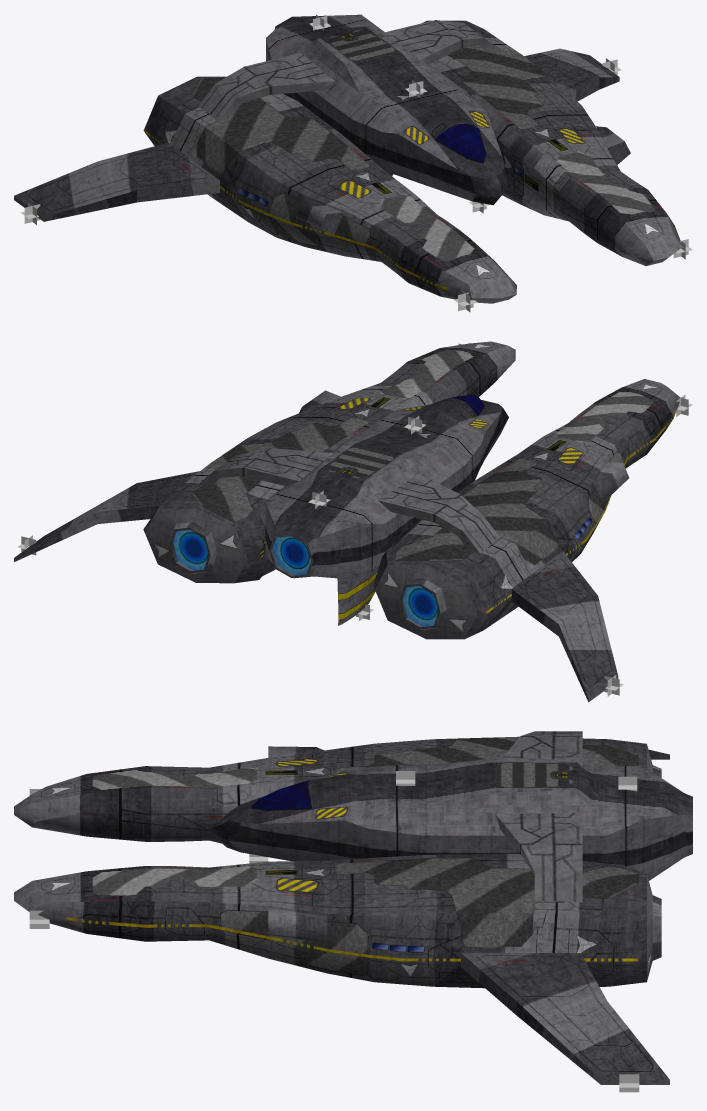
Rendered from llama.obj.
The picture shows the model from 3 angles, top to bottom: view 1: azimuth 30°, elevation 25°; view 2: azimuth 150°, elevation 25°; view 3: azimuth 270°, elevation 25°; orthographic projection. The views are drawn at different scales.
Bounding box in the file's own units: 6.8 × 1.77 × 5.79.
